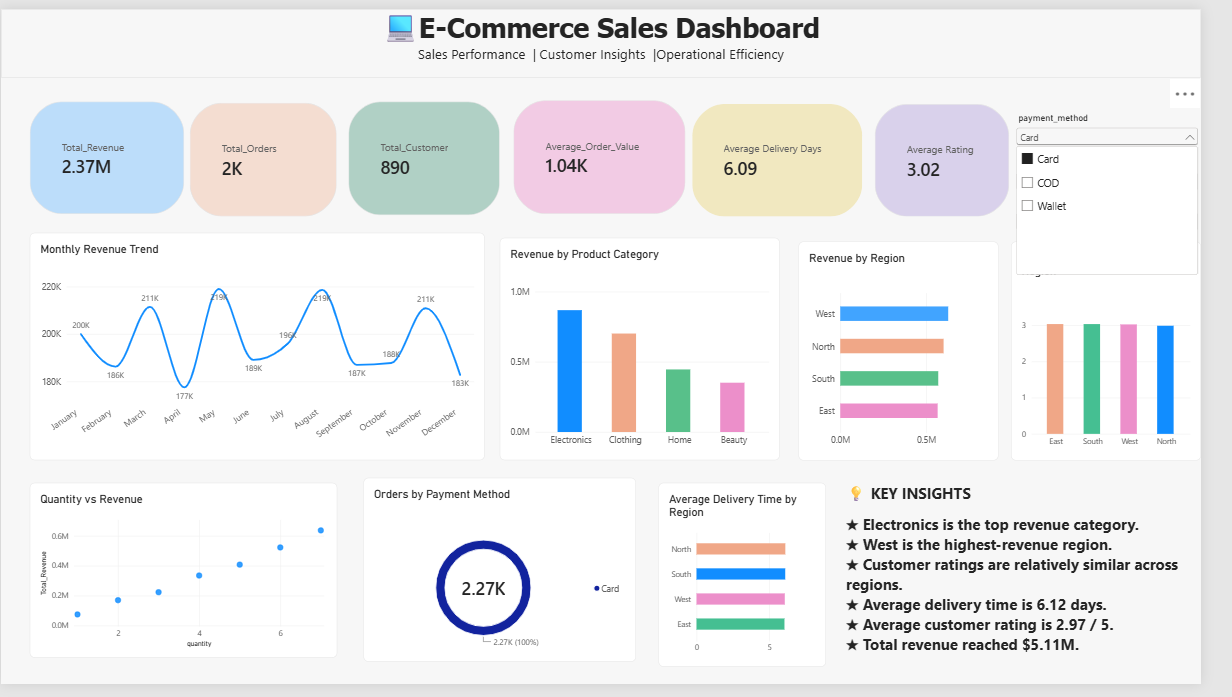

The page's visual inventory and layout, read from the dashboard file:
{"tool":"powerbi","page":{"name":"Page 1","canvas":[1920,1080],"ordinal":0},"visuals":[{"type":"cardVisual","fields":{"Data":["ecommerce_sales_cleaned.Total_Revenue"]},"box":[45,147.5,247.5,180],"z":0},{"type":"cardVisual","fields":{"Data":["ecommerce_sales_cleaned.Total_Orders"]},"box":[302.5,150,235,182.5],"z":1000},{"type":"cardVisual","fields":{"Data":["ecommerce_sales_cleaned.Total_Customer"]},"box":[555,147.5,242.5,182.5],"z":2000},{"type":"cardVisual","fields":{"Data":["ecommerce_sales_cleaned.Average_Order_Value"]},"box":[820,145,275,182.5],"z":3000},{"type":"cardVisual","fields":{"Data":["ecommerce_sales_cleaned.Average Rating"]},"box":[1397.5,152.5,215,180],"z":4000},{"type":"lineChart","title":"Monthly Revenue Trend","fields":{"Category":["ecommerce_sales_cleaned.month.Variation.Date Hierarchy.Month","ecommerce_sales_cleaned.month.Variation.Date Hierarchy.Day"],"Y":["ecommerce_sales_cleaned.Total_Revenue"]},"box":[46,358,728,364],"z":5000},{"type":"clusteredColumnChart","title":"Revenue by Product Category","fields":{"Category":["ecommerce_sales_cleaned.product_category"],"Y":["ecommerce_sales_cleaned.Total_Revenue"]},"box":[798,366,448,356],"z":6000},{"type":"clusteredBarChart","title":"Revenue by Region","fields":{"Category":["ecommerce_sales_cleaned.region"],"Y":["ecommerce_sales_cleaned.Total_Revenue"]},"box":[1276,372,320,350],"z":7000},{"type":"scatterChart","title":"Quantity vs Revenue","fields":{"X":["ecommerce_sales_cleaned.quantity"],"Y":["ecommerce_sales_cleaned.Total_Revenue"]},"box":[46,758,491.7,280],"z":8000},{"type":"donutChart","title":"Orders by Payment Method","fields":{"Category":["ecommerce_sales_cleaned.payment_method"],"Y":["CountNonNull(ecommerce_sales_cleaned.order_id)"]},"box":[580,750,436,294],"z":9000},{"type":"clusteredColumnChart","title":"Average Customer Rating by Region","fields":{"Category":["ecommerce_sales_cleaned.region"],"Y":["ecommerce_sales_cleaned.Average Rating"]},"box":[1616,372,304,350],"z":10000},{"type":"clusteredBarChart","title":"Average Delivery Time by Region","fields":{"Category":["ecommerce_sales_cleaned.region"],"Y":["ecommerce_sales_cleaned.Average Delivery Days"]},"box":[1052,758,268,294],"z":11000},{"type":"textbox","box":[0,0,1920,110],"z":12000},{"type":"textbox","box":[1280,1052,280,28],"z":13000},{"type":"textbox","box":[1352,758,568,294],"z":14000},{"type":"cardVisual","fields":{"Data":["ecommerce_sales_cleaned.Average Delivery Days"]},"box":[1105,152.5,272.5,180],"z":15000},{"type":"slicer","fields":{"Values":["ecommerce_sales_cleaned.product_category"]},"box":[1620,302.5,300,70],"z":15001},{"type":"slicer","fields":{"Values":["ecommerce_sales_cleaned.region"]},"box":[1620,237.5,300,60],"z":15002},{"type":"slicer","fields":{"Values":["ecommerce_sales_cleaned.payment_method"]},"box":[1620,165,300,75],"z":15003}]}

Visuals, with their boxes in screenshot pixels (x1, y1, x2, y2), scaled from the page's 1920x1080 canvas onto the 1232x697 screenshot:
cardVisual - ecommerce_sales_cleaned.Total_Revenue: 29/95/188/211
cardVisual - ecommerce_sales_cleaned.Total_Orders: 194/97/345/215
cardVisual - ecommerce_sales_cleaned.Total_Customer: 356/95/512/213
cardVisual - ecommerce_sales_cleaned.Average_Order_Value: 526/94/703/211
cardVisual - ecommerce_sales_cleaned.Average Rating: 897/98/1035/215
"Monthly Revenue Trend" lineChart: 30/231/497/466
"Revenue by Product Category" clusteredColumnChart: 512/236/800/466
"Revenue by Region" clusteredBarChart: 819/240/1024/466
"Quantity vs Revenue" scatterChart: 30/489/345/670
"Orders by Payment Method" donutChart: 372/484/652/674
"Average Customer Rating by Region" clusteredColumnChart: 1037/240/1231/466
"Average Delivery Time by Region" clusteredBarChart: 675/489/847/679
textbox: 0/0/1231/71
textbox: 821/679/1001/696
textbox: 868/489/1231/679
cardVisual - ecommerce_sales_cleaned.Average Delivery Days: 709/98/884/215
slicer - ecommerce_sales_cleaned.product_category: 1040/195/1231/240
slicer - ecommerce_sales_cleaned.region: 1040/153/1231/192
slicer - ecommerce_sales_cleaned.payment_method: 1040/106/1231/155
